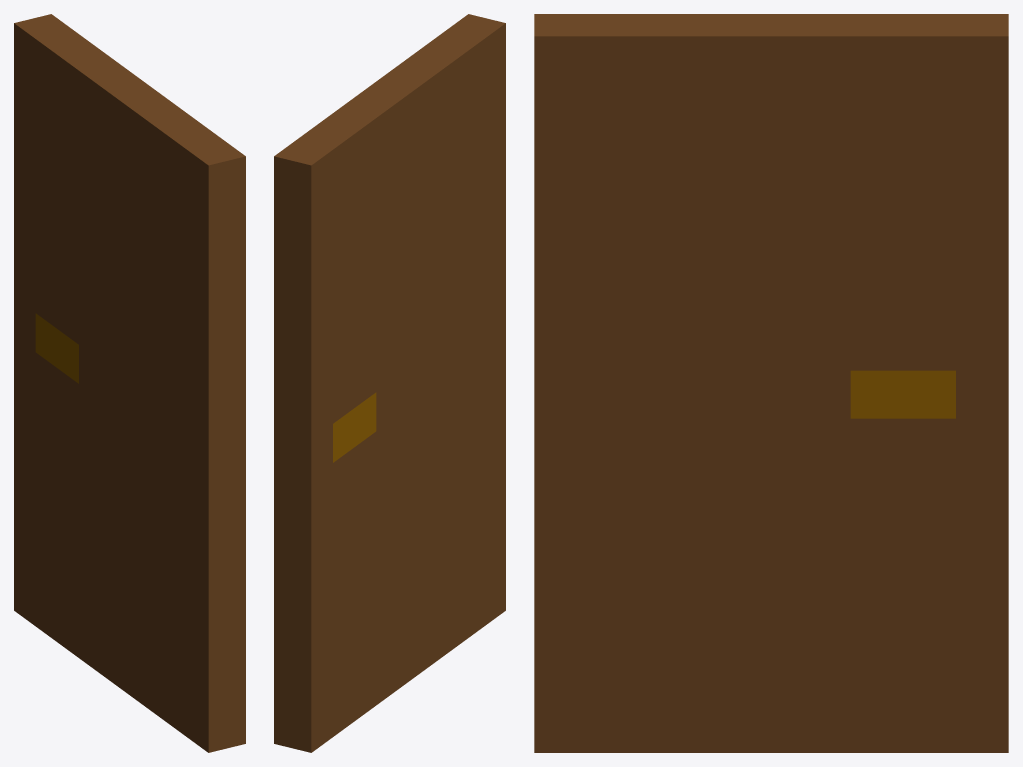
Rendered from Door Simple B.obj.
3 renders of one model, left to right at view 1: azimuth 30°, elevation 25°; view 2: azimuth 150°, elevation 25°; view 3: azimuth 270°, elevation 25°, orthographic. The views are drawn at different scales.
Parts seen in each view (by area): view 1: Door Simple B; view 2: Door Simple B; view 3: Door Simple B.
Boxes of the visible parts, x1,y1,x2,y2 form: Door Simple B: [14, 14, 245, 752]; Door Simple B: [274, 14, 505, 752]; Door Simple B: [534, 14, 1008, 752].
Size of the model in its own units: 1 by 15 by 9.
